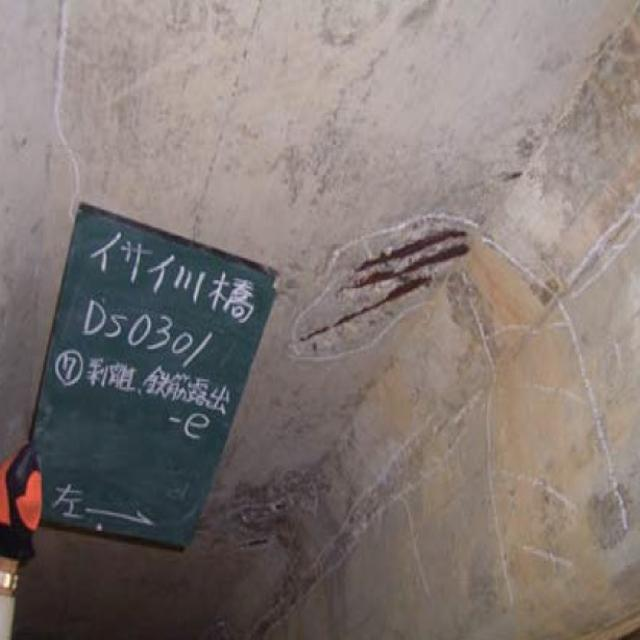spalling: (310, 183, 480, 383)
